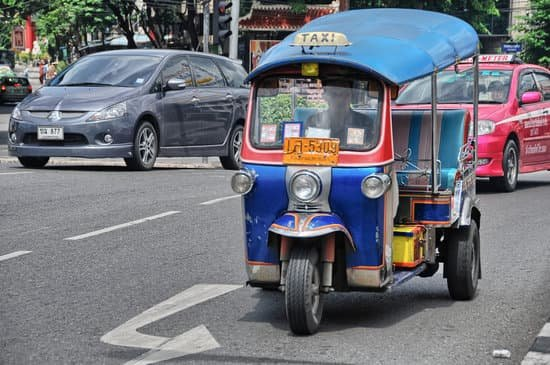car: (7, 48, 246, 171), (397, 53, 550, 190)
threewheel: (231, 7, 483, 336)
